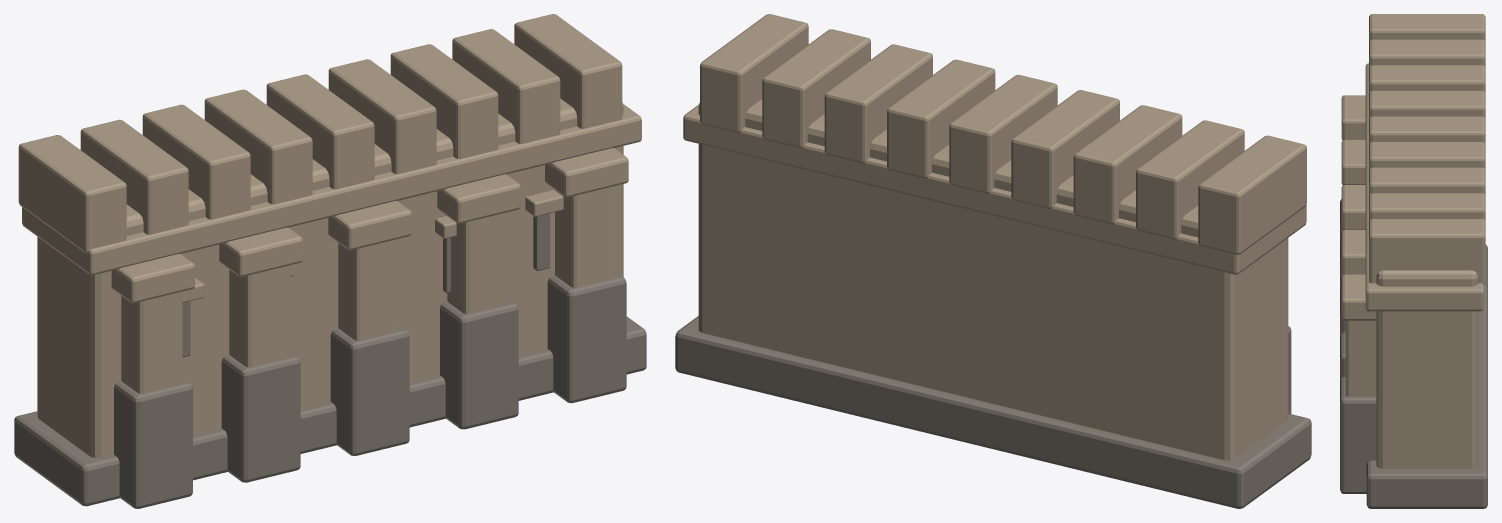
Rendered from Valoria_WallSegment_DefV1.glb.
3 views of the same model, side by side, from view 1: azimuth 30°, elevation 25°; view 2: azimuth 150°, elevation 25°; view 3: azimuth 270°, elevation 25° (orthographic). The views are drawn at different scales.
Visible parts, largest first — view 1: Wall masonry core, Wall upper stringcourse, Wall plinth, Wall merlon, Wall buttress base.004, Wall buttress base.001, Wall buttress base.002, Wall buttress base.003, Wall buttress base, Wall merlon.004, Wall merlon.005, Wall merlon.003 (+17 smaller); view 2: Wall masonry core, Wall plinth, Wall upper stringcourse, Wall merlon, Wall merlon.002, Wall merlon.006, Wall merlon.004, Wall merlon.003, Wall merlon.007, Wall merlon.008, Wall merlon.001, Wall merlon.005; view 3: Wall masonry core, Wall plinth, Wall merlon.008, Wall upper stringcourse, Wall buttress base.004, Wall merlon.001, Wall merlon.006, Wall merlon.003, Wall merlon.007, Wall merlon.002, Wall merlon.004, Wall merlon (+8 smaller).
Part boxes in pixels (x1,y1,x2,y2): Wall masonry core: [37, 98, 623, 458]; Wall upper stringcourse: [22, 104, 641, 275]; Wall plinth: [14, 316, 646, 506]; Wall merlon: [18, 135, 126, 253]; Wall buttress base.004: [547, 272, 626, 403]; Wall buttress base.001: [221, 351, 300, 482]; Wall buttress base.002: [330, 325, 409, 455]; Wall buttress base.003: [440, 298, 518, 429]; Wall buttress base: [114, 378, 192, 508]; Wall merlon.004: [266, 74, 374, 189]; Wall merlon.005: [328, 59, 436, 174]; Wall merlon.003: [204, 89, 312, 204]; Wall masonry core: [698, 99, 1288, 460]; Wall plinth: [675, 316, 1311, 508]; Wall upper stringcourse: [683, 104, 1306, 274]; Wall merlon: [1198, 135, 1306, 254]; Wall merlon.002: [1073, 105, 1182, 224]; Wall merlon.006: [824, 44, 932, 163]; Wall merlon.004: [949, 74, 1057, 193]; Wall merlon.003: [1011, 90, 1119, 209]; Wall merlon.007: [762, 29, 870, 148]; Wall merlon.008: [700, 14, 808, 133]; Wall merlon.001: [1136, 120, 1244, 239]; Wall merlon.005: [887, 59, 995, 178]; Wall masonry core: [1376, 270, 1478, 468]; Wall plinth: [1366, 244, 1487, 508]; Wall merlon.008: [1369, 219, 1485, 285]; Wall upper stringcourse: [1365, 63, 1484, 311]; Wall buttress base.004: [1340, 377, 1376, 493]; Wall merlon.001: [1369, 39, 1485, 67]; Wall merlon.006: [1369, 167, 1485, 195]; Wall merlon.003: [1369, 90, 1485, 118]; Wall merlon.007: [1369, 193, 1485, 221]; Wall merlon.002: [1369, 65, 1485, 93]; Wall merlon.004: [1369, 116, 1485, 144]; Wall merlon: [1369, 14, 1485, 41].
Bounding box in the file's own units: 4.56 × 2.42 × 1.22.
